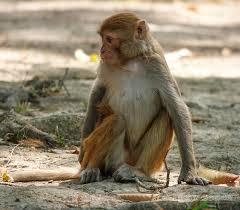monkey: (51, 9, 211, 182)
